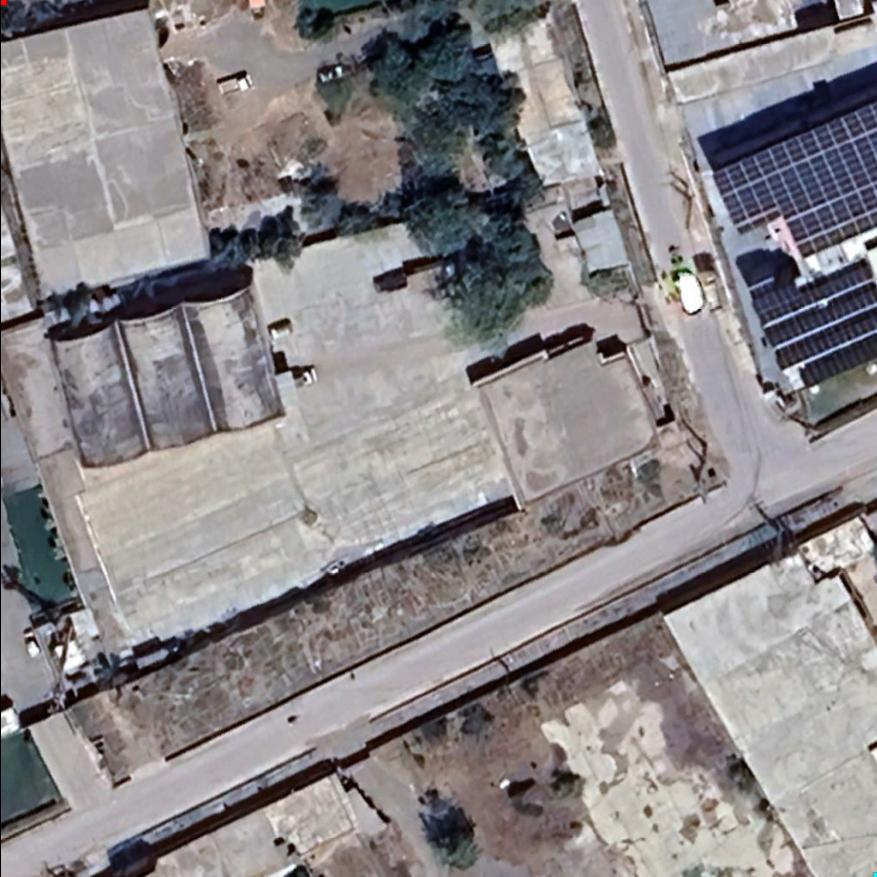Solarpanel: (701, 91, 875, 282), (744, 235, 875, 400)
